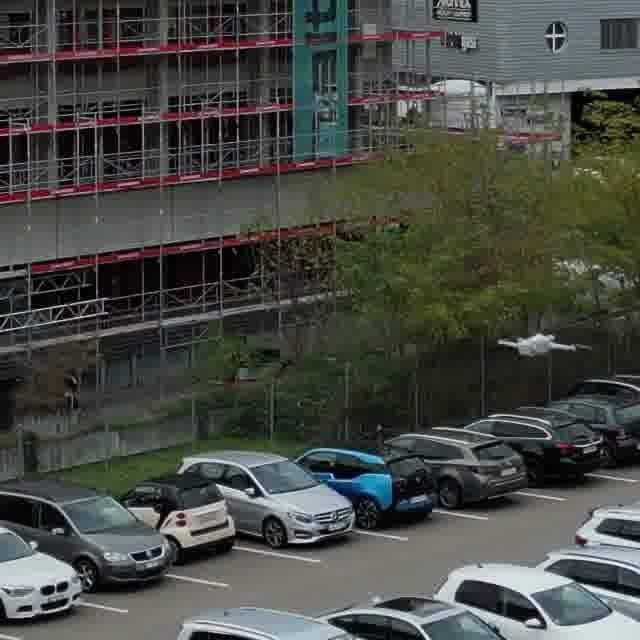Drohne: (498, 333, 577, 356)
